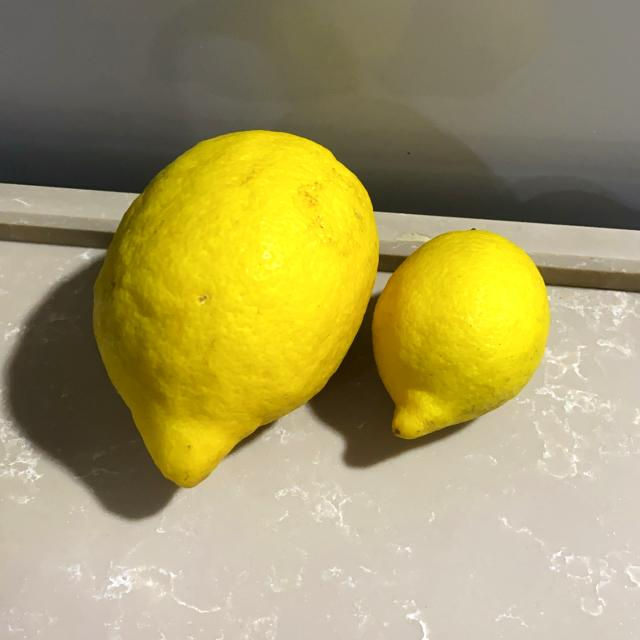lemon: (85, 126, 386, 491), (363, 217, 561, 451), (13, 310, 26, 312)
